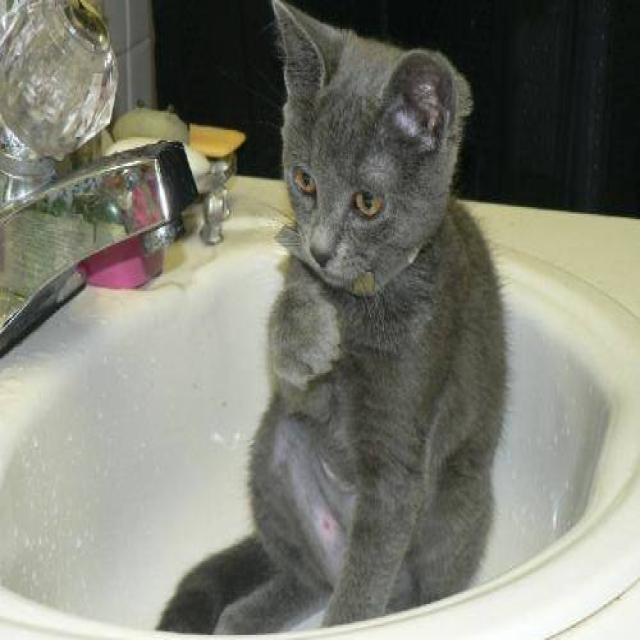cat: (153, 0, 510, 633)
